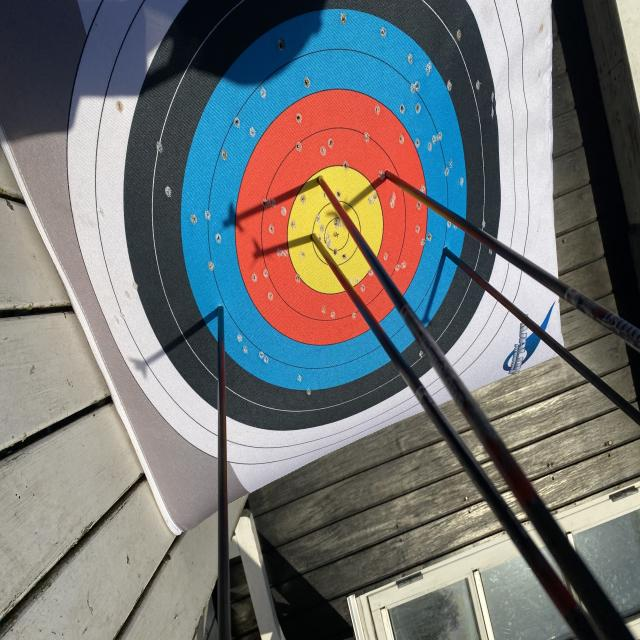Arrow_Blue: (202, 280, 244, 336), (432, 230, 465, 268)
Arrow_Red: (375, 153, 405, 196)
Arrow_Yellow: (297, 162, 341, 199), (296, 215, 323, 255)
